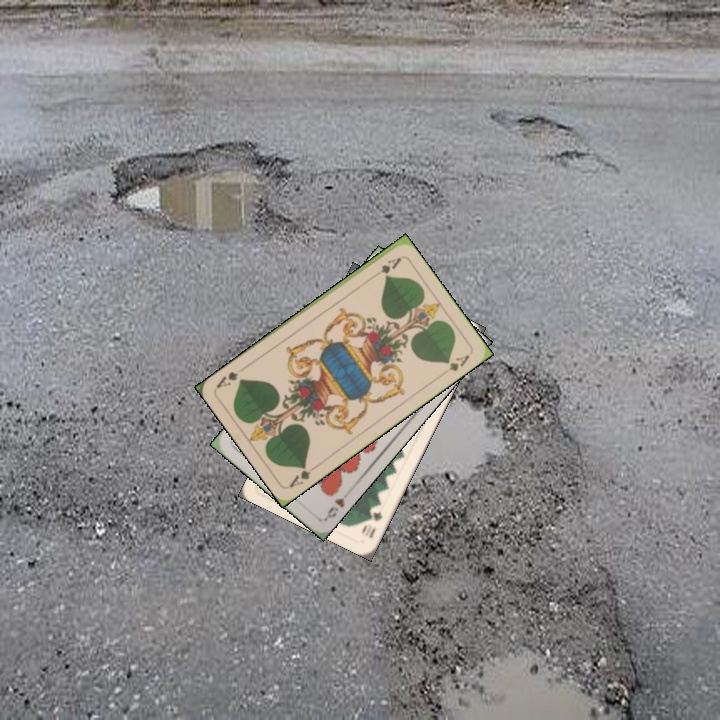G10: (358, 507, 385, 541)
GA: (285, 461, 321, 490), (367, 253, 404, 280)
H9: (321, 493, 347, 522)
